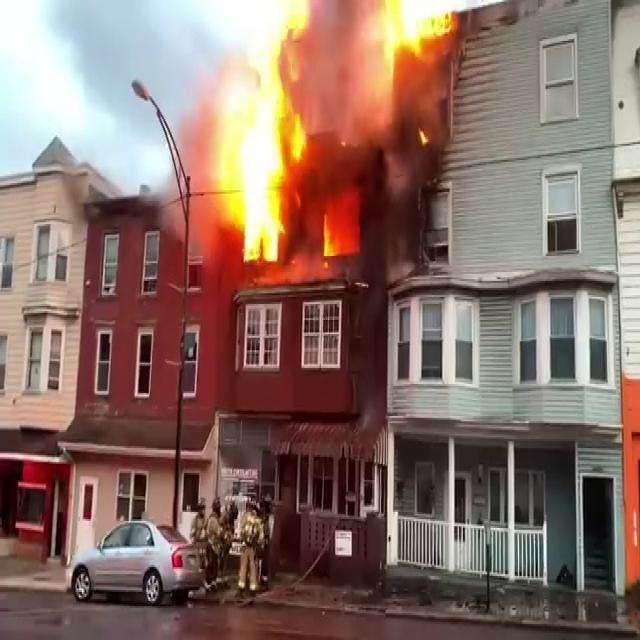Fire: (215, 0, 319, 267), (368, 0, 458, 71), (317, 204, 353, 272)
